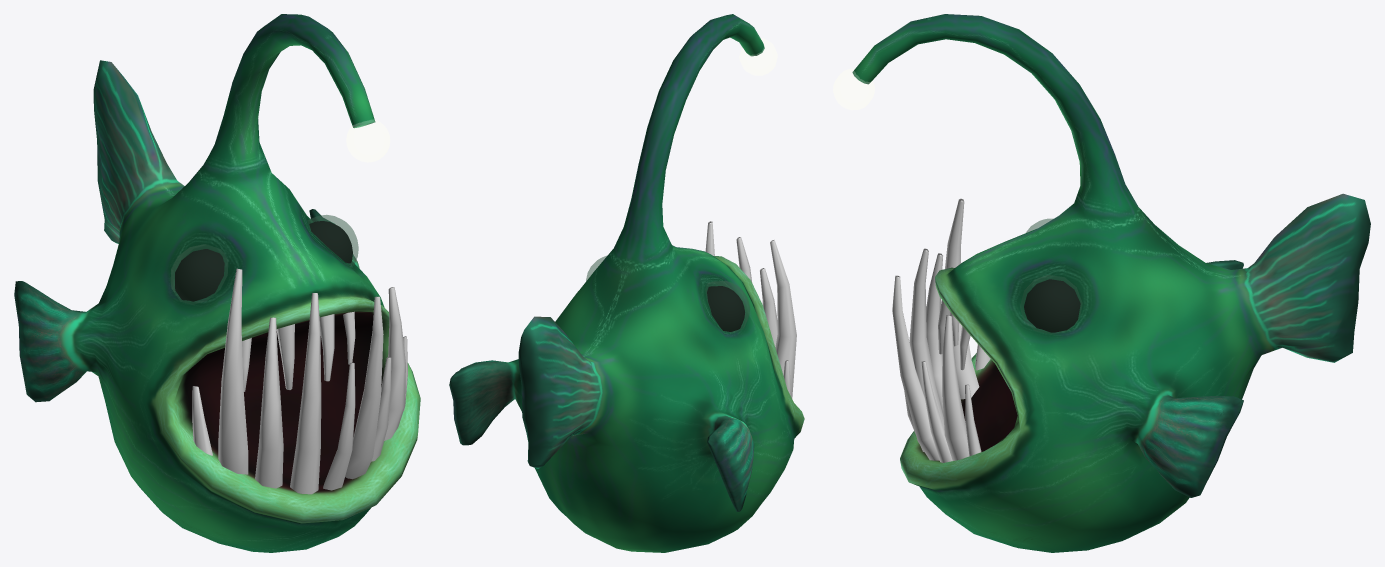
3 renders of one model, left to right at view 1: azimuth 30°, elevation 25°; view 2: azimuth 150°, elevation 25°; view 3: azimuth 270°, elevation 25°, orthographic. The views are drawn at different scales.
Parts seen in each view (by area): view 1: FISH_LOW, TEETH, EYES, EYES_LIMP, LAMP; view 2: FISH_LOW, TEETH, EYES, EYES_LIMP, LAMP; view 3: FISH_LOW, TEETH, EYES, EYES_LIMP, LAMP.
Boxes of the visible parts, <box> form: FISH_LOW: <box>14,14,420,552</box>; TEETH: <box>192,268,407,494</box>; EYES: <box>170,215,358,304</box>; EYES_LIMP: <box>175,221,352,301</box>; LAMP: <box>346,119,389,162</box>; FISH_LOW: <box>449,14,804,552</box>; TEETH: <box>705,221,796,398</box>; EYES: <box>586,256,749,332</box>; EYES_LIMP: <box>707,286,744,331</box>; LAMP: <box>739,38,777,75</box>; FISH_LOW: <box>852,14,1370,552</box>; TEETH: <box>892,198,990,462</box>; EYES: <box>1020,218,1082,334</box>; EYES_LIMP: <box>1024,279,1080,332</box>; LAMP: <box>833,69,874,109</box>.
Size of the model in its own units: 1.49 by 2.4 by 2.23.
Materials: 5 (1 with a texture image).
